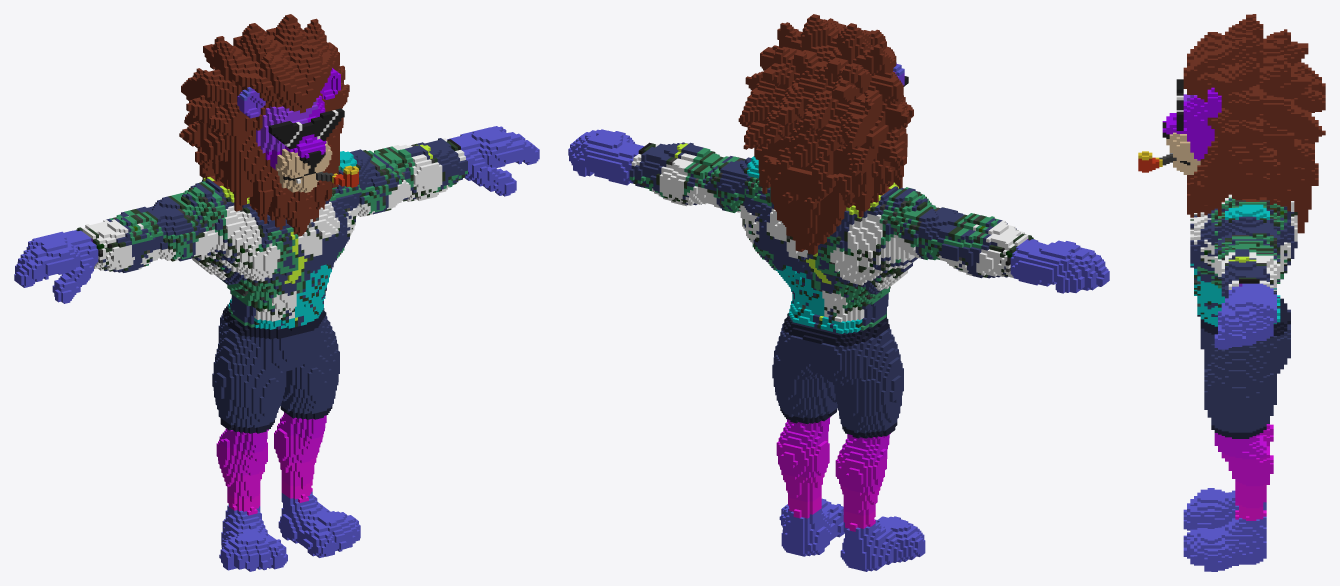
The model's file is 1018-FgZrM12x.fbx.
3 renders of one model, left to right at view 1: azimuth 30°, elevation 25°; view 2: azimuth 150°, elevation 25°; view 3: azimuth 270°, elevation 25°, orthographic. The views are drawn at different scales.
Parts seen in each view (by area): view 1: pipe; view 2: pipe; view 3: pipe.
Part boxes in pixels (x1=…): pipe: x1=14, y1=14, x2=539, y2=571; pipe: x1=568, y1=14, x2=1109, y2=571; pipe: x1=1138, y1=14, x2=1325, y2=571.
Bounding box in the file's own units: 17.2 × 16.5 × 5.4.
Materials: 5 (5 with a texture image).
